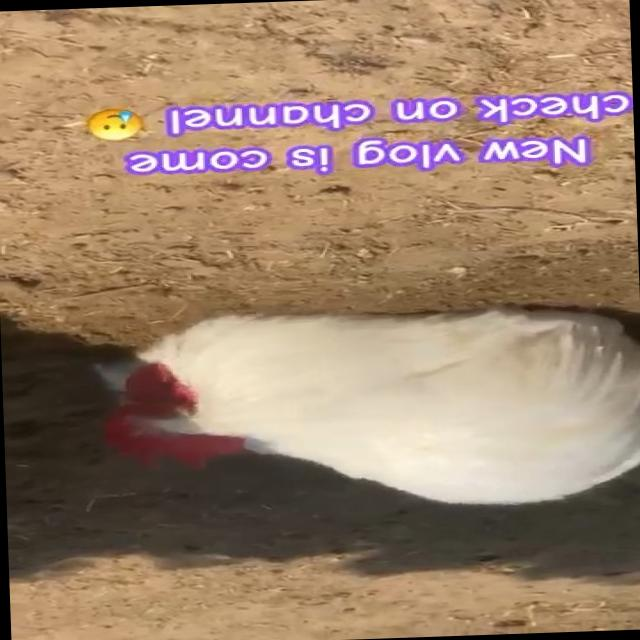stand bath: (91, 279, 640, 524)
